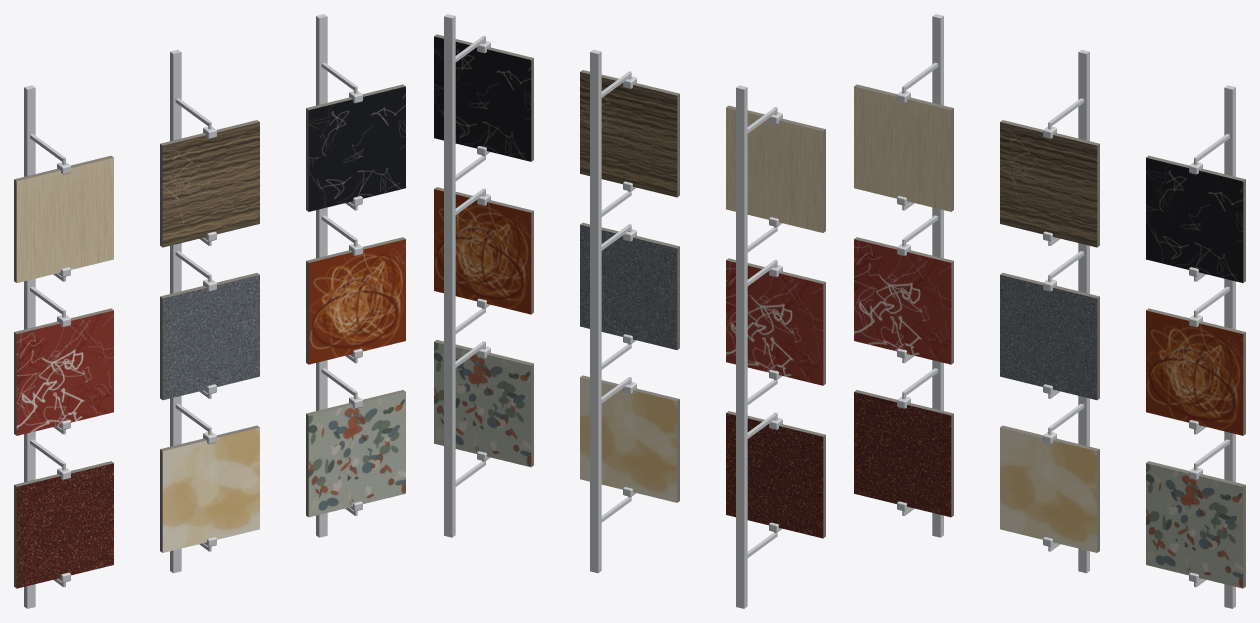
The model's file is tilewall.glb.
3 renders of one model, left to right at view 1: azimuth 30°, elevation 25°; view 2: azimuth 150°, elevation 25°; view 3: azimuth 330°, elevation 25°, orthographic.
Parts seen in each view (by area): view 1: Tile_2, Tile_7, Tile_5, Tile_4, Tile_1, Tile_8, Tile_0, Tile_3, Tile_6, Rails; view 2: Rails, Tile_6, Tile_8, Tile_1, Tile_0, Tile_3, Tile_4, Tile_7, Tile_2, Tile_5; view 3: Tile_0, Tile_7, Tile_3, Tile_4, Tile_1, Tile_6, Tile_2, Tile_5, Tile_8, Rails.
Boxes of the visible parts, box(x1,y1,x2,y2) form: Tile_2: box(306, 62, 405, 211); Tile_7: box(160, 404, 259, 552); Tile_5: box(306, 215, 405, 364); Tile_4: box(160, 251, 259, 400); Tile_1: box(160, 98, 259, 247); Tile_8: box(306, 368, 405, 517); Tile_0: box(14, 134, 113, 282); Tile_3: box(14, 286, 113, 435); Tile_6: box(14, 439, 113, 588); Rails: box(24, 14, 327, 608); Rails: box(444, 14, 747, 608); Tile_6: box(726, 411, 825, 557); Tile_8: box(434, 340, 533, 486); Tile_1: box(580, 70, 679, 216); Tile_0: box(726, 105, 825, 252); Tile_3: box(726, 258, 825, 405); Tile_4: box(580, 222, 679, 369); Tile_7: box(580, 375, 679, 522); Tile_2: box(434, 34, 533, 181); Tile_5: box(434, 187, 533, 333); Tile_0: box(854, 62, 953, 211); Tile_7: box(1000, 404, 1099, 552); Tile_3: box(854, 215, 953, 364); Tile_4: box(1000, 251, 1099, 400); Tile_1: box(1000, 98, 1099, 247); Tile_6: box(854, 368, 953, 517); Tile_2: box(1146, 134, 1245, 282); Tile_5: box(1146, 286, 1245, 435); Tile_8: box(1146, 439, 1245, 588); Rails: box(932, 14, 1235, 608).
Size of the model in its own units: 4 by 5.1 by 0.694.
11 materials, 9 textured.
